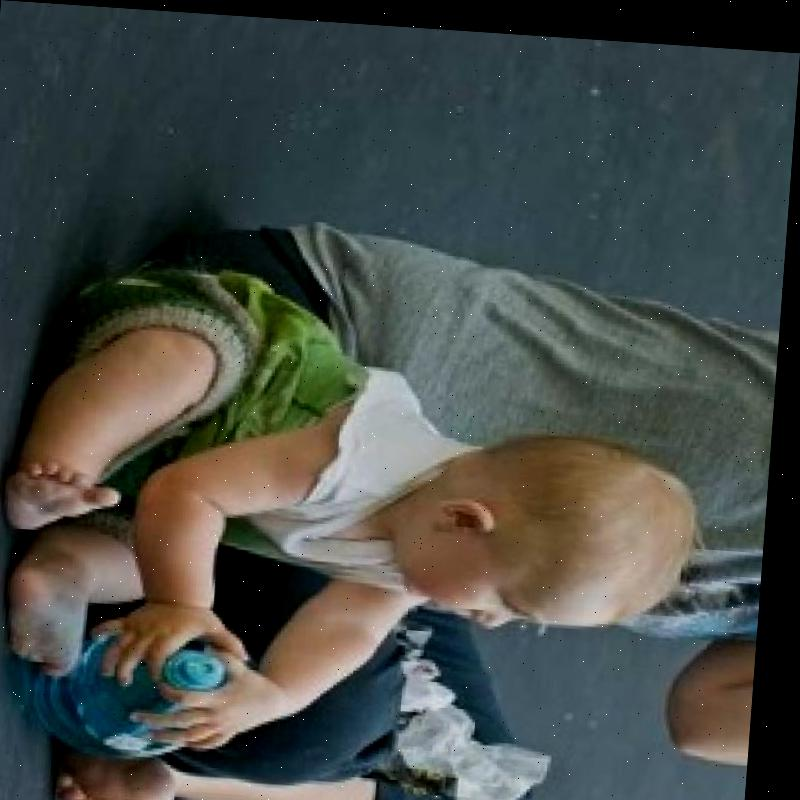botella: (35, 626, 241, 765)
